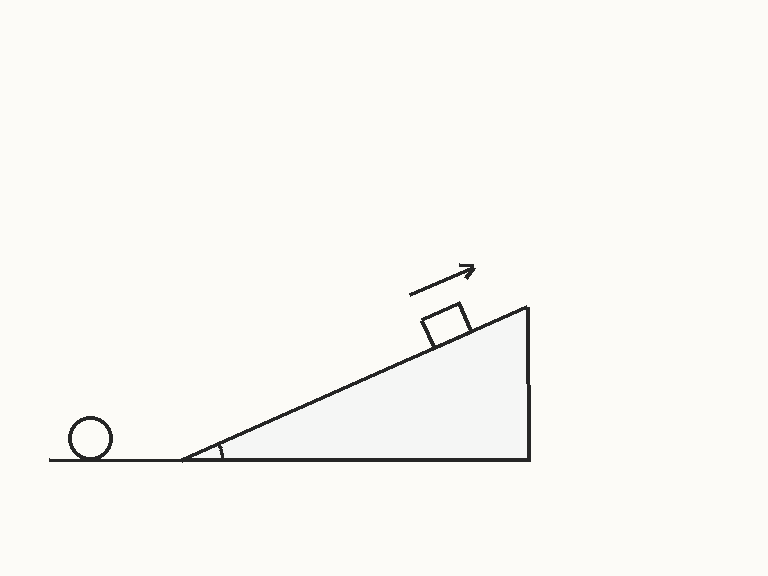ball: (66, 414, 114, 462)
block: (419, 301, 473, 350)
ramp: (180, 304, 529, 462)
